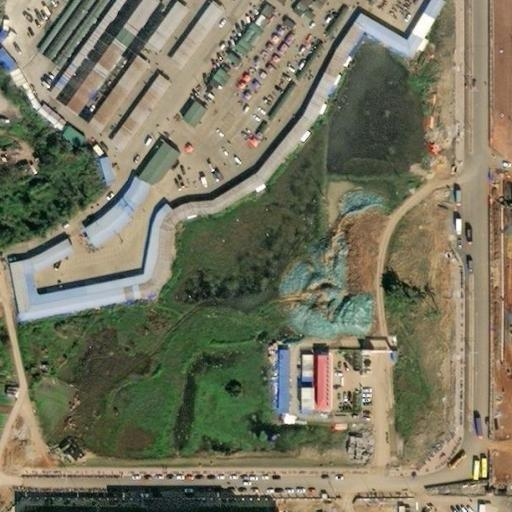building: (241, 19, 368, 205), (0, 238, 160, 328), (51, 37, 122, 123), (69, 50, 139, 137), (72, 174, 143, 251), (38, 25, 103, 106), (28, 0, 96, 72), (98, 73, 158, 154), (40, 0, 103, 77), (160, 0, 219, 70), (17, 0, 74, 64), (344, 10, 409, 58), (190, 175, 248, 220), (130, 136, 174, 188), (132, 221, 170, 275), (86, 0, 129, 37), (271, 343, 290, 411), (152, 195, 194, 220), (178, 94, 208, 126), (8, 24, 38, 55), (16, 91, 42, 119), (143, 206, 175, 227), (25, 9, 50, 34), (51, 125, 76, 148), (35, 111, 57, 132), (291, 356, 305, 378), (294, 390, 308, 412), (11, 82, 22, 95), (2, 72, 15, 83), (5, 78, 18, 87), (0, 11, 4, 17)
